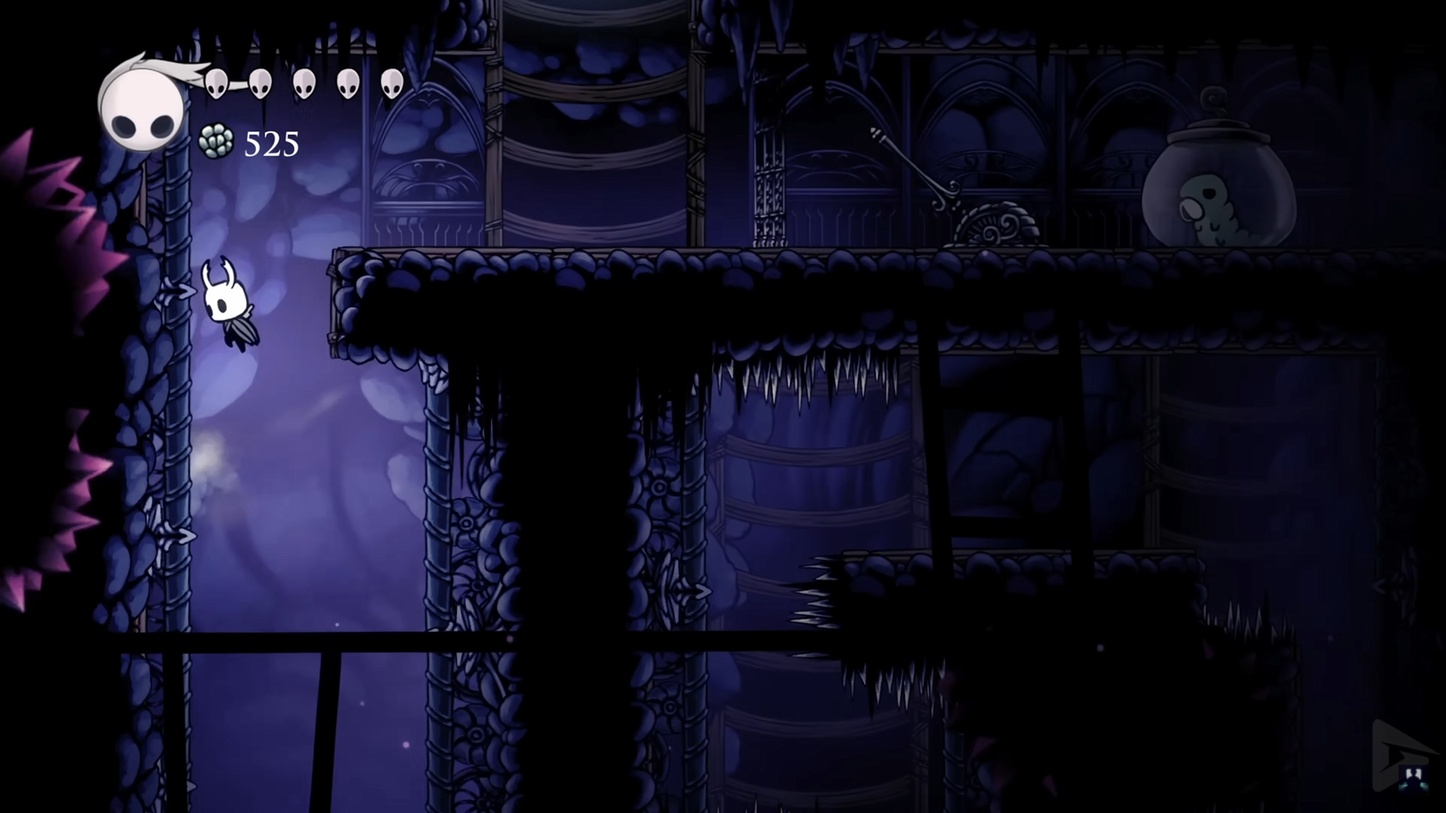HK: (203, 254, 263, 357)
